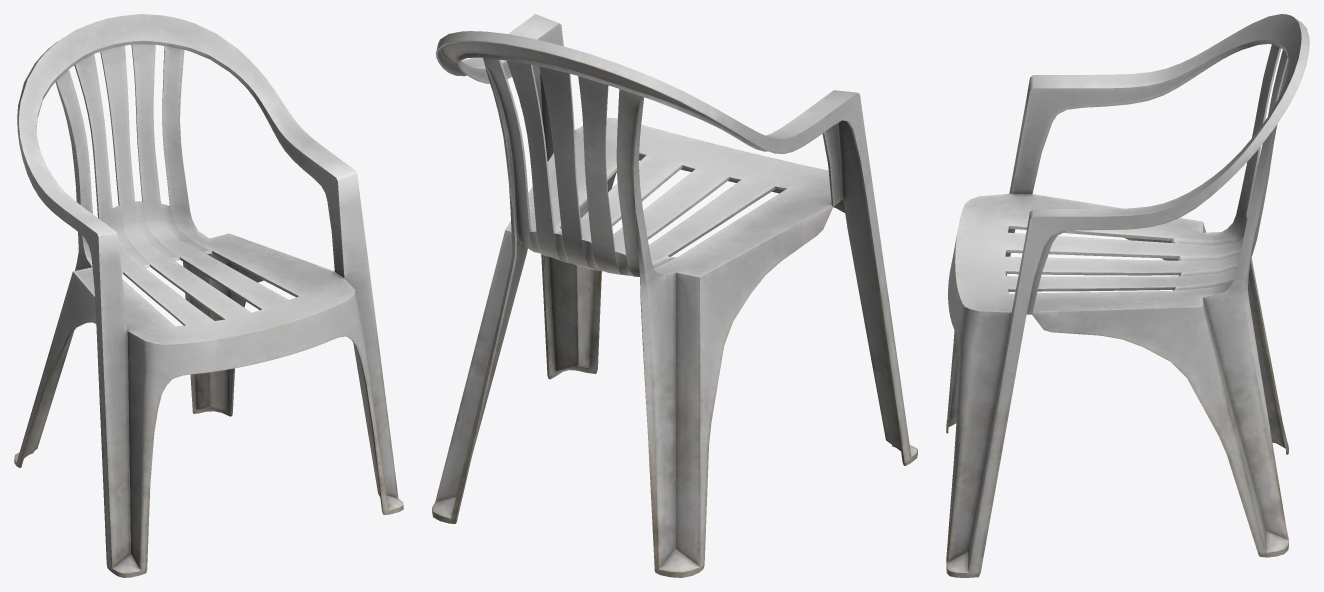
File: plastic_monobloc_chair_01.glb
3 renders of one model, left to right at view 1: azimuth 30°, elevation 25°; view 2: azimuth 150°, elevation 25°; view 3: azimuth 270°, elevation 25°, orthographic. The views are drawn at different scales.
Visible parts, largest first — view 1: plastic_monobloc_chair_01; view 2: plastic_monobloc_chair_01; view 3: plastic_monobloc_chair_01.
Boxes of the visible parts, left/top/right/bottom form: plastic_monobloc_chair_01: left=14, top=14, right=403, bottom=577; plastic_monobloc_chair_01: left=432, top=14, right=917, bottom=577; plastic_monobloc_chair_01: left=946, top=14, right=1309, bottom=577.
Size of the model in its own units: 0.6418 by 0.8798 by 0.6276.
1 material, 1 textured.
